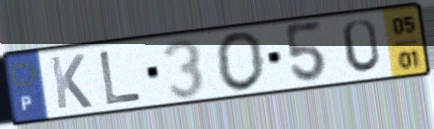0: (339, 17, 383, 76)
3: (161, 34, 209, 103)
5: (282, 19, 329, 87)
K: (47, 52, 95, 112)
L: (96, 49, 145, 107)
O: (213, 29, 268, 94)
